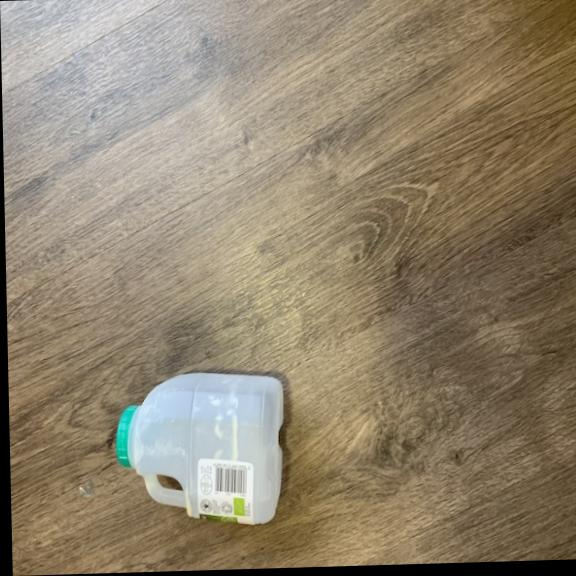Plastik: (113, 371, 293, 530)
